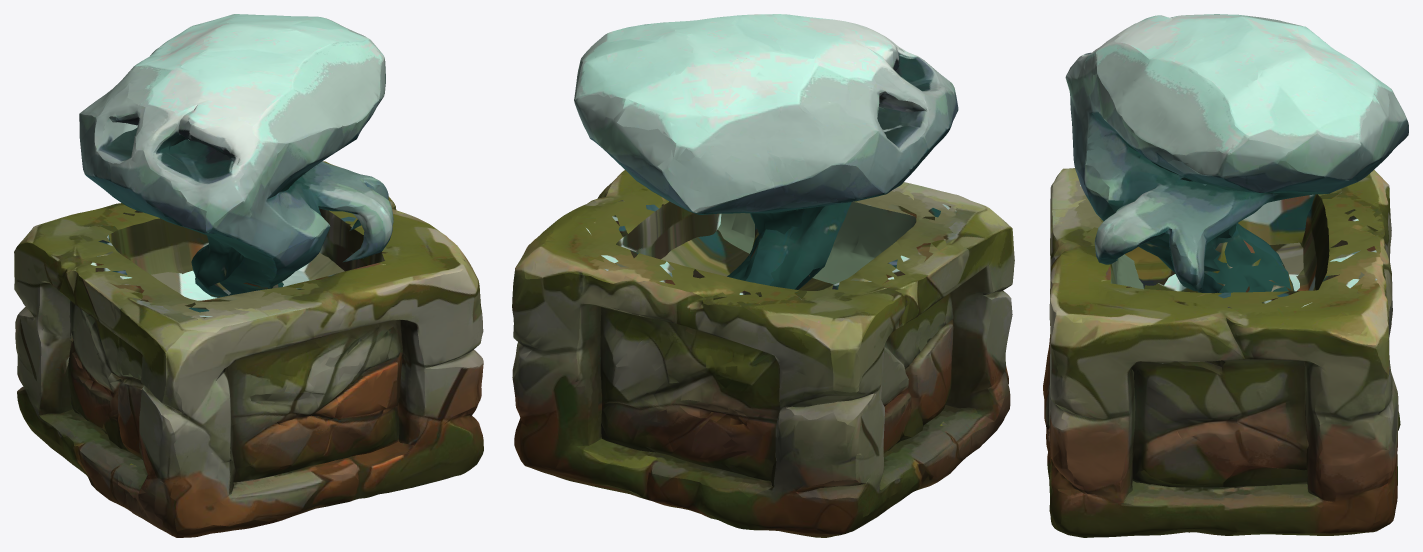
Rendered from item_wraith_essence.glb.
3 renders of one model, left to right at view 1: azimuth 30°, elevation 25°; view 2: azimuth 150°, elevation 25°; view 3: azimuth 270°, elevation 25°, orthographic. The views are drawn at different scales.
Visible parts, largest first — view 1: item_wraith_essence; view 2: item_wraith_essence; view 3: item_wraith_essence.
Part boxes in pixels (box(x1,y1,x2,y2)): item_wraith_essence: box(14, 14, 483, 537); item_wraith_essence: box(512, 14, 1014, 537); item_wraith_essence: box(1043, 14, 1408, 537).
Size of the model in its own units: 0.1234 by 0.14 by 0.1114.
1 material, 1 textured.
